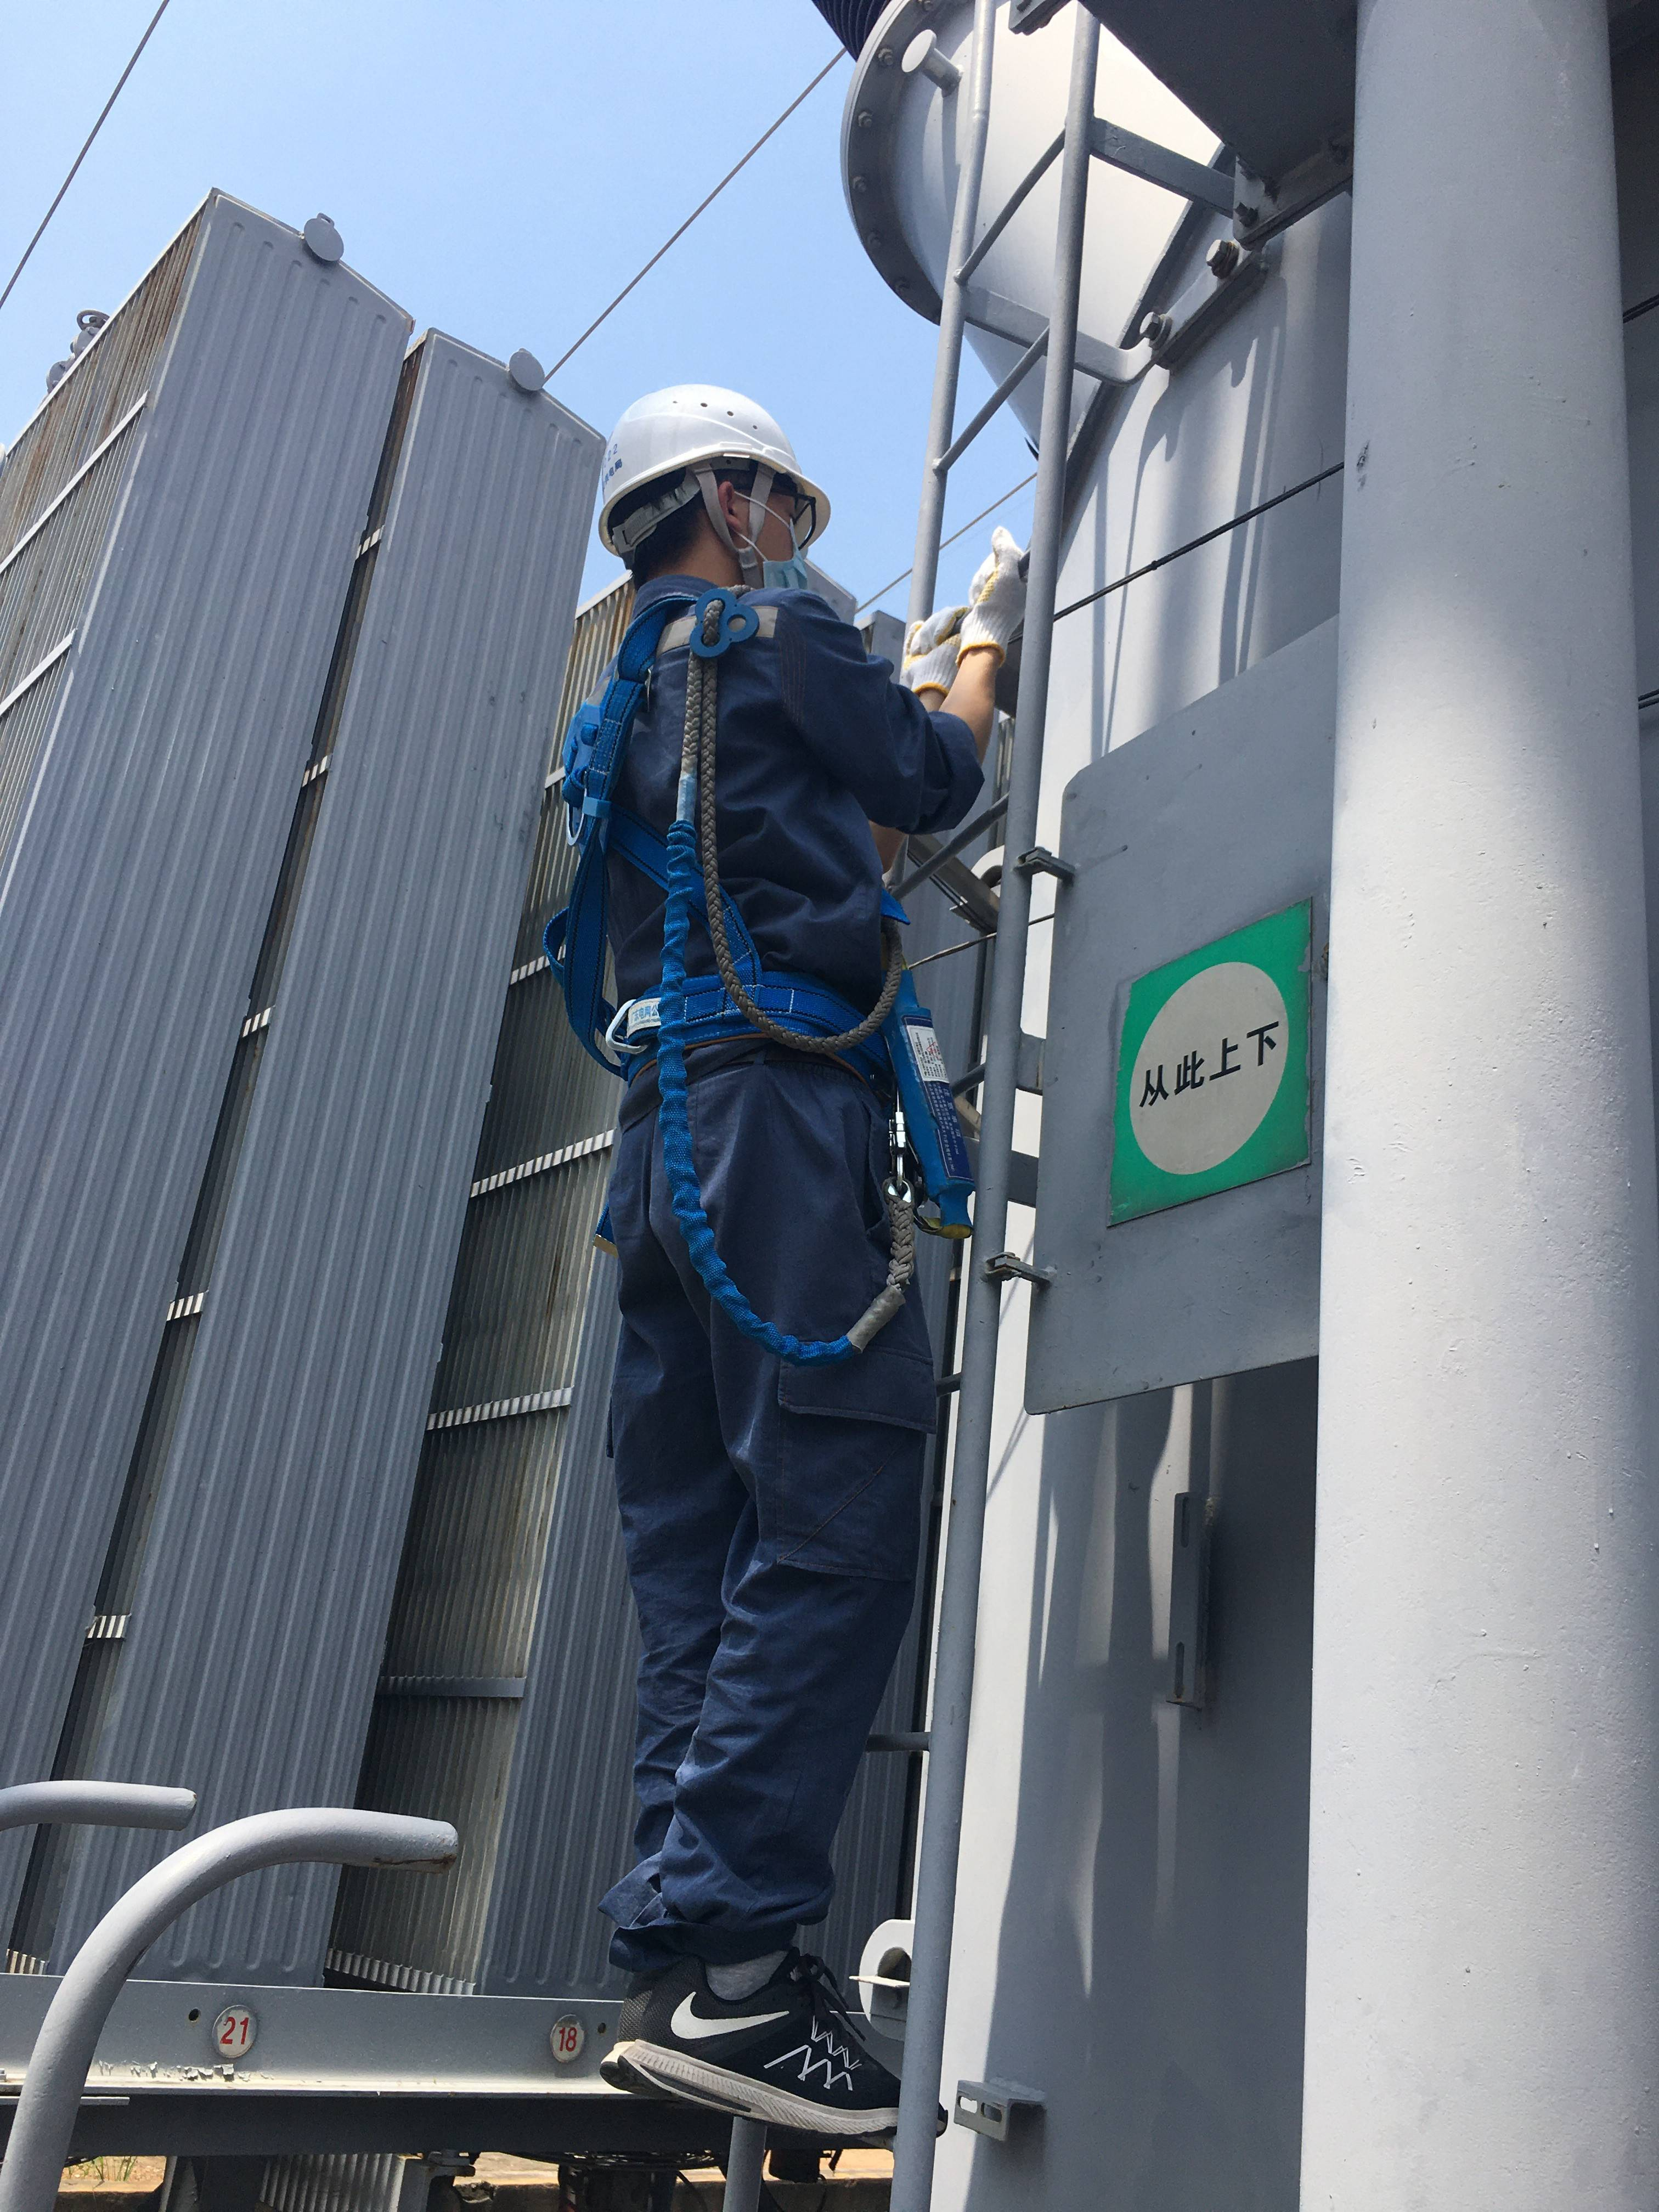downsuit: (565, 1057, 948, 1952)
upsuit: (542, 571, 997, 1101)
wrongtop: (927, 639, 1002, 822)
